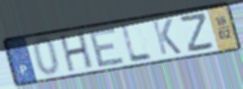0: (32, 36, 64, 78)
E: (88, 25, 127, 69)
H: (59, 30, 95, 75)
K: (150, 17, 184, 57)
L: (120, 23, 156, 65)
Z: (179, 10, 216, 54)
